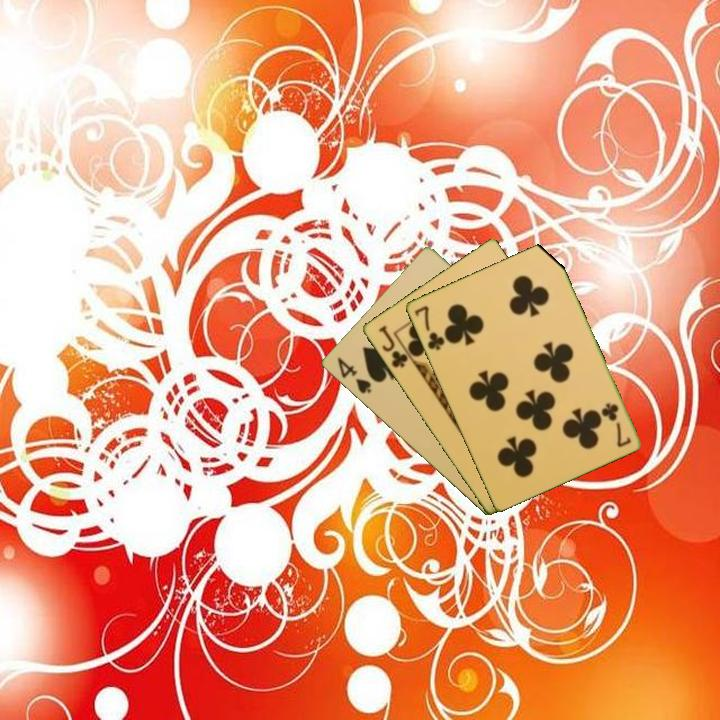4s: (333, 353, 374, 396)
7c: (410, 302, 447, 353), (598, 399, 634, 450)
Jc: (374, 322, 410, 371)
